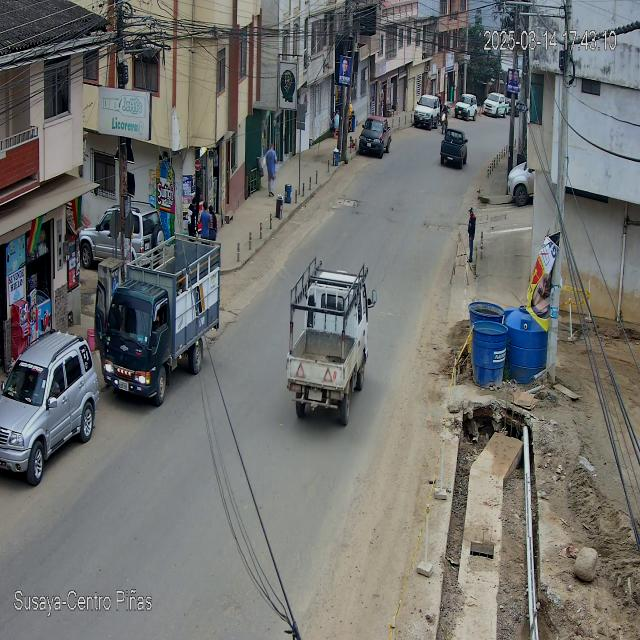TRUCK: (103, 236, 221, 406), (286, 256, 376, 426)
